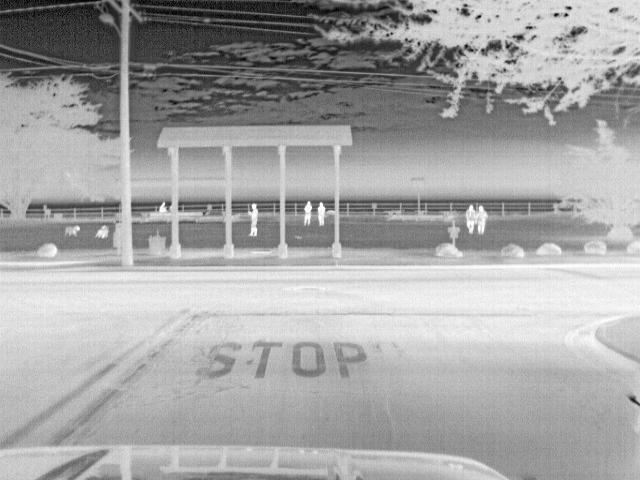dog: (61, 222, 83, 236), (95, 222, 111, 240)
person: (246, 199, 261, 240), (477, 200, 491, 235), (463, 202, 477, 236), (301, 199, 314, 224)
